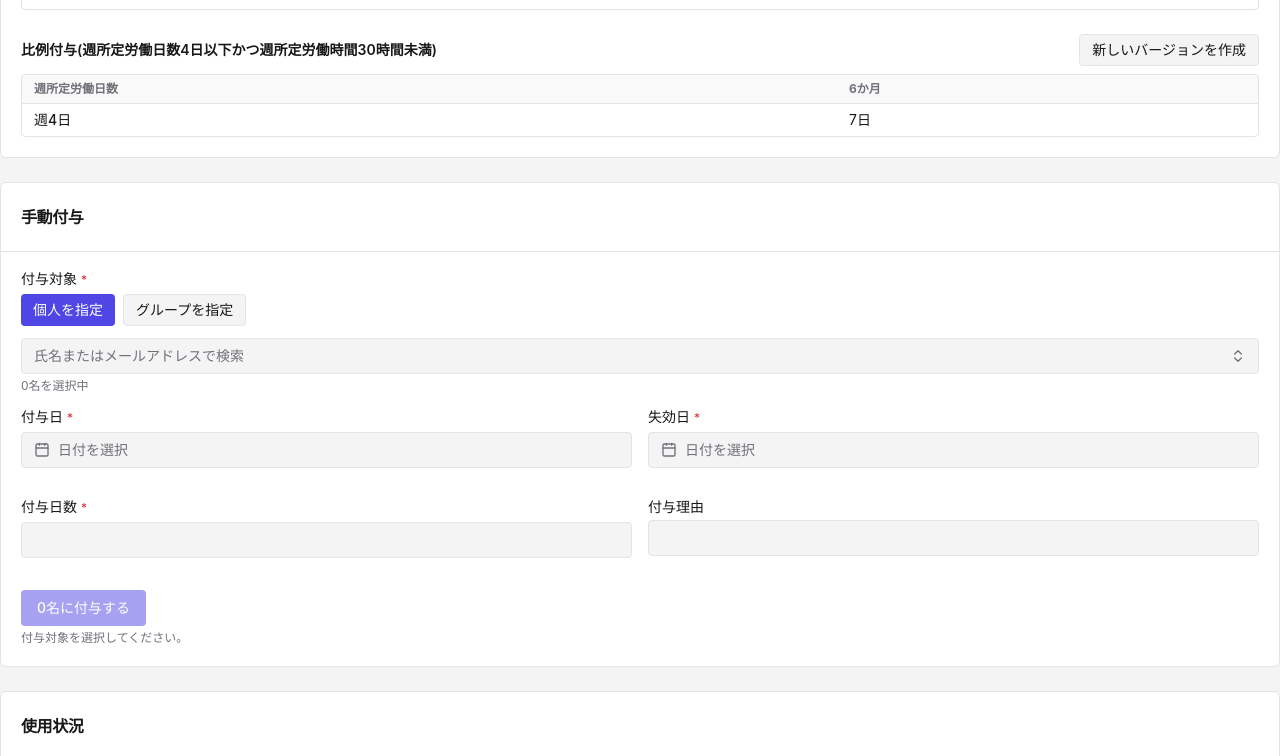
Test: PaidLeavePolicyPage › revoke button of the target user grants › does not show the change button for a revoked grant
The width and height of the screenshot is (1280, 756).
(page scrolled)
Click the dropdown with id "grant-target-users" at (139, 356), box [21,338,1259,374]
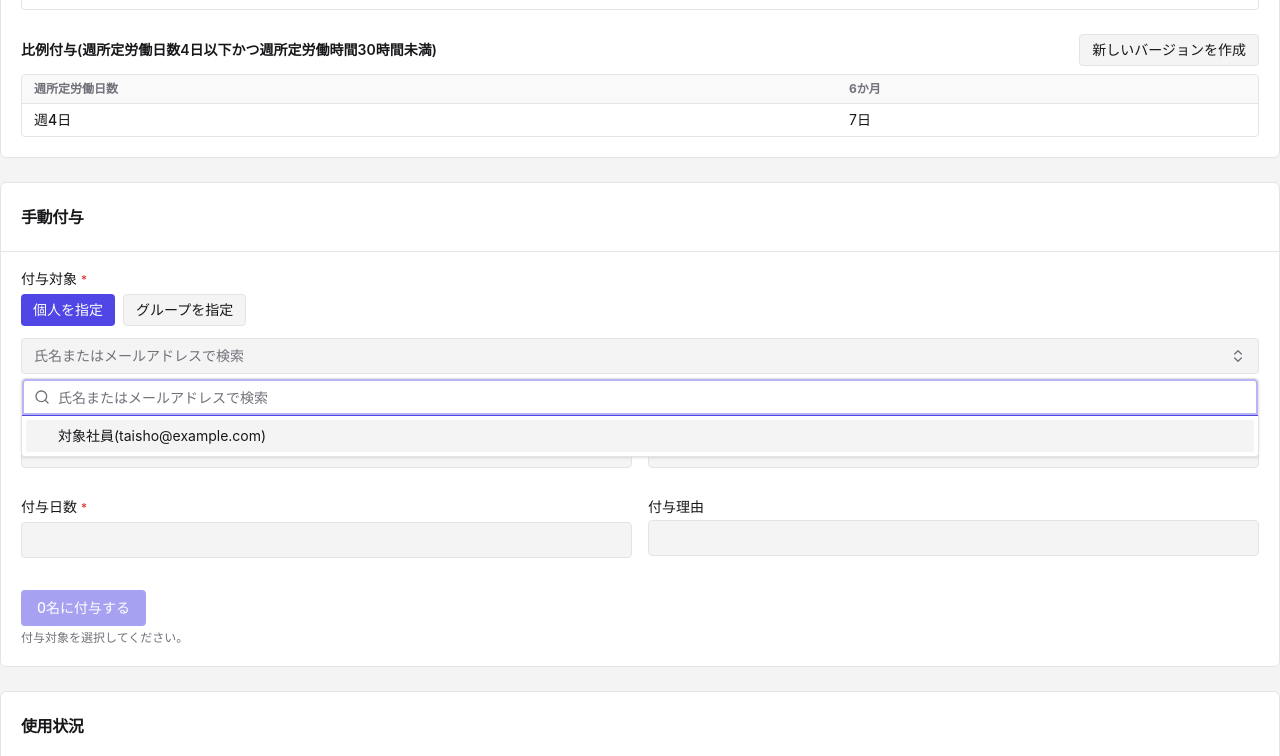
Type "対象" into the 2nd dropdown with placeholder "氏名またはメールアドレスで検索" at (652, 397), box [58,379,1246,415]
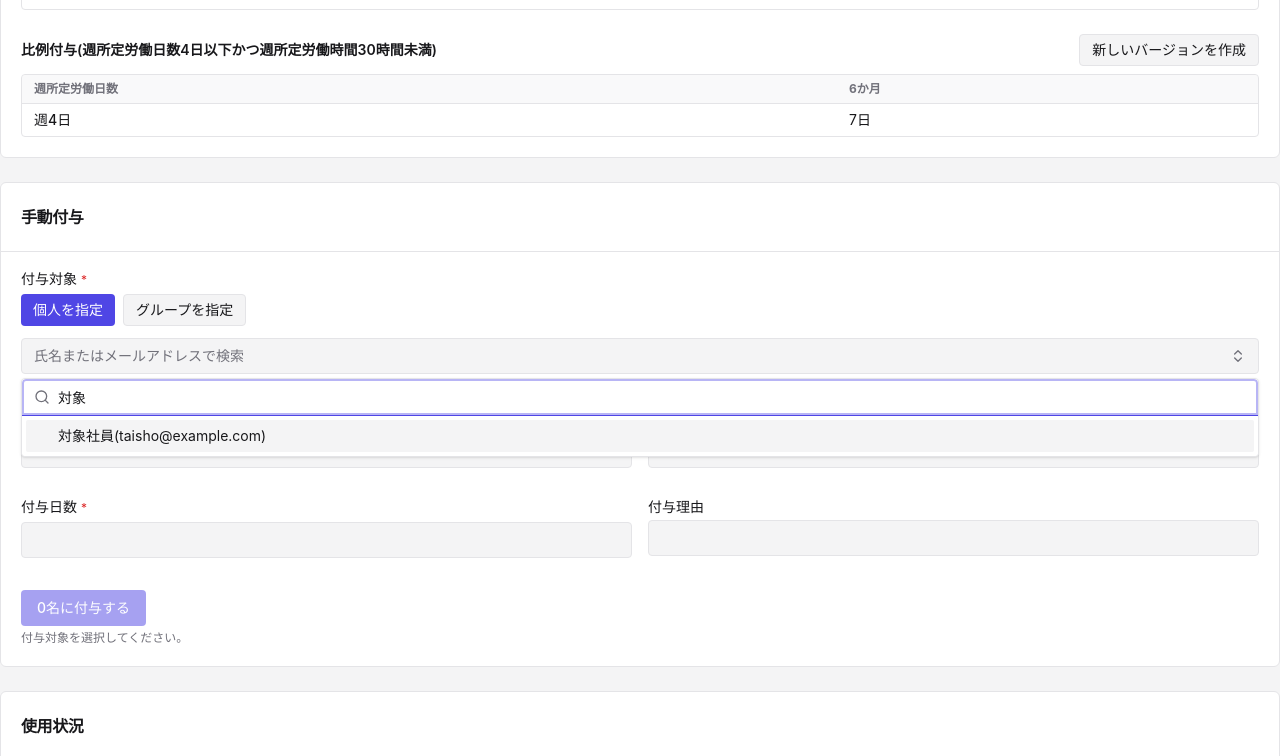
Click the option "対象社員(taisho@example.com)" at (86, 436), box [26,420,1254,452]
(page scrolled)
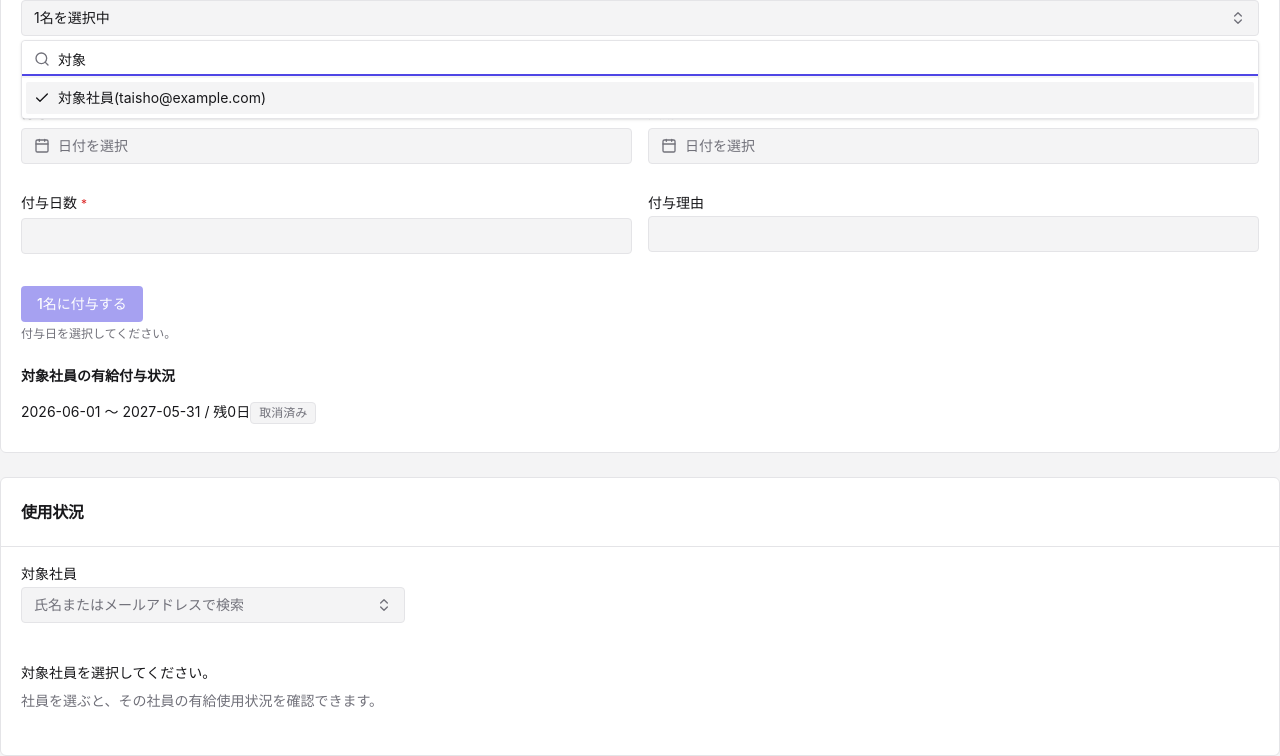
Now the heading "対象社員の有給付与状況" is shown, box [21,367,175,384]
Now the text "取消済み" is shown, box [250,402,316,424]
